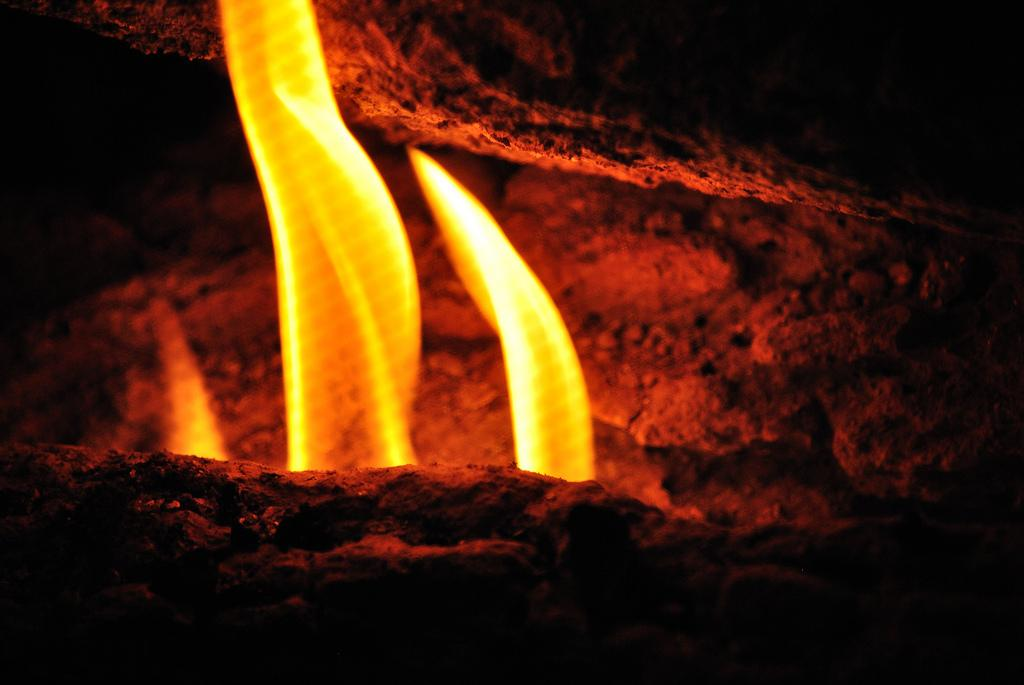fire: (270, 182, 407, 458), (503, 260, 585, 473), (233, 7, 348, 145)
